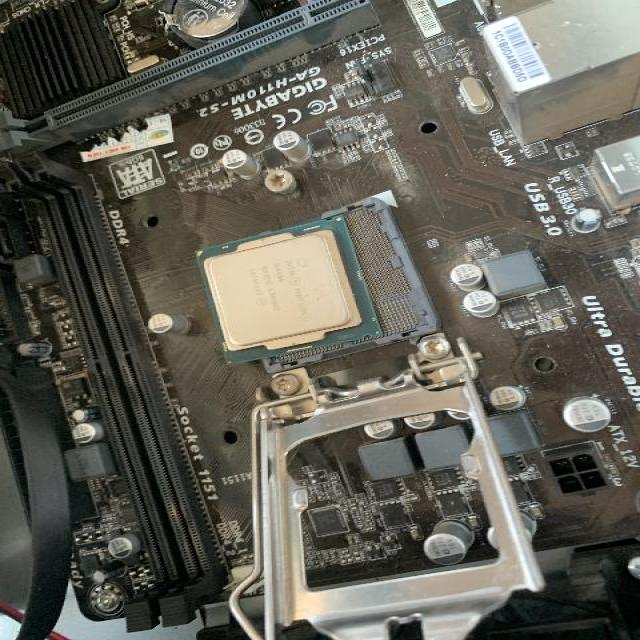CPU: (197, 216, 384, 364)
Mainboard: (2, 2, 640, 640)
